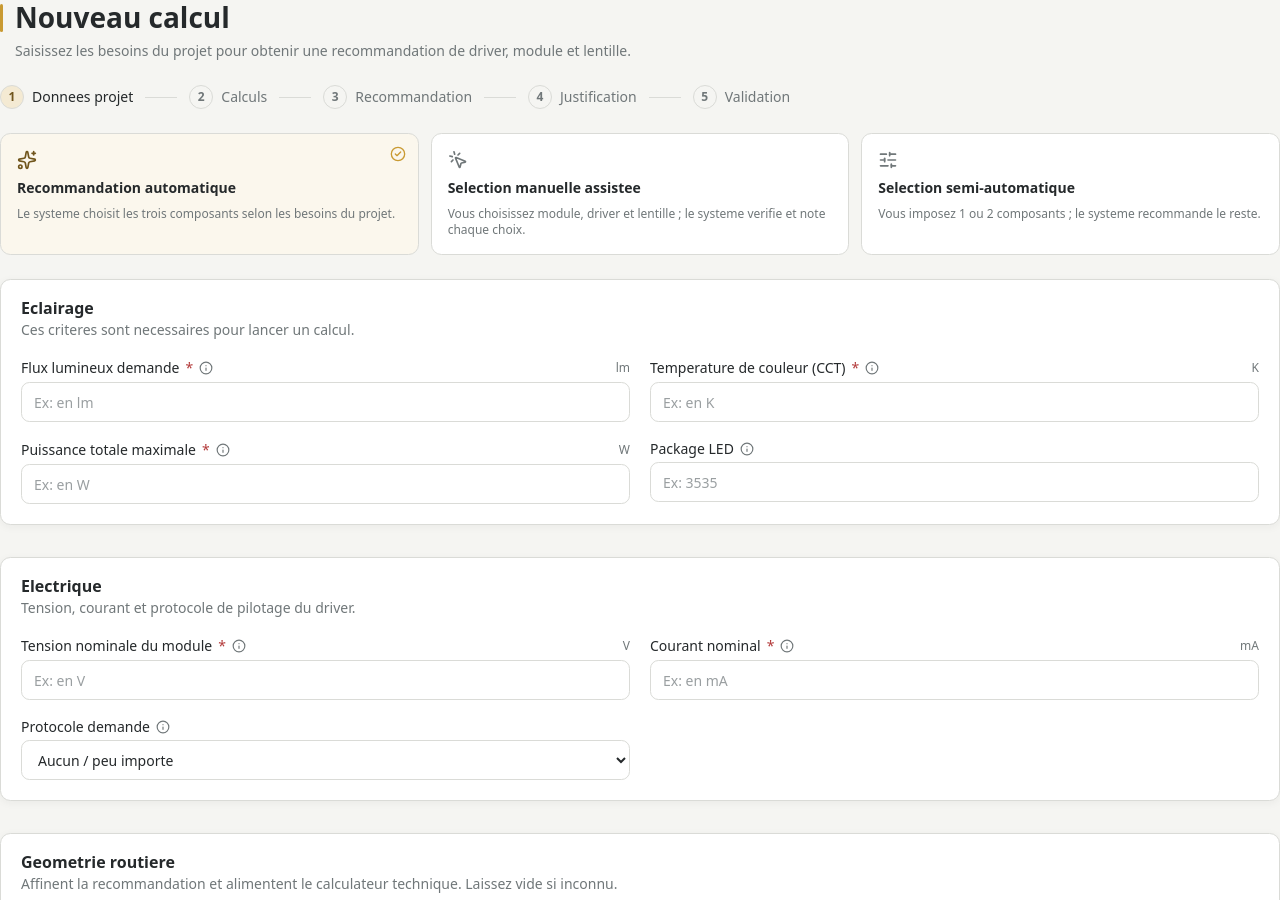
Scenario: NewCalculationPage › bascule vers la selection semi-automatique quand on clique sur la carte correspondante
The width and height of the screenshot is (1280, 900).
Step 1. Click the button "Selection semi-automatique" → (1071, 194), box [861,133,1279,255]
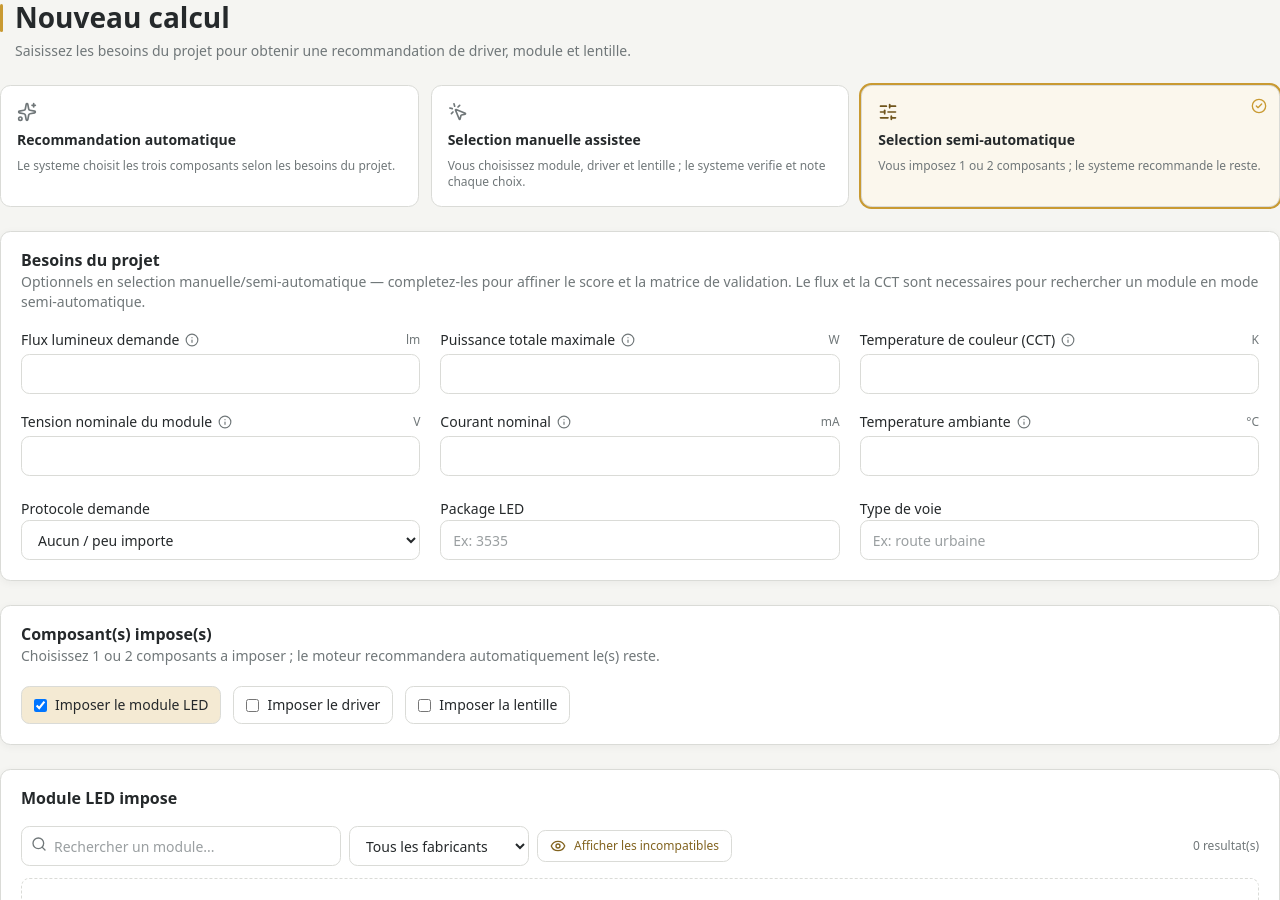
Now the heading "Composant(s) impose(s)" is shown, box [21,623,212,645]
